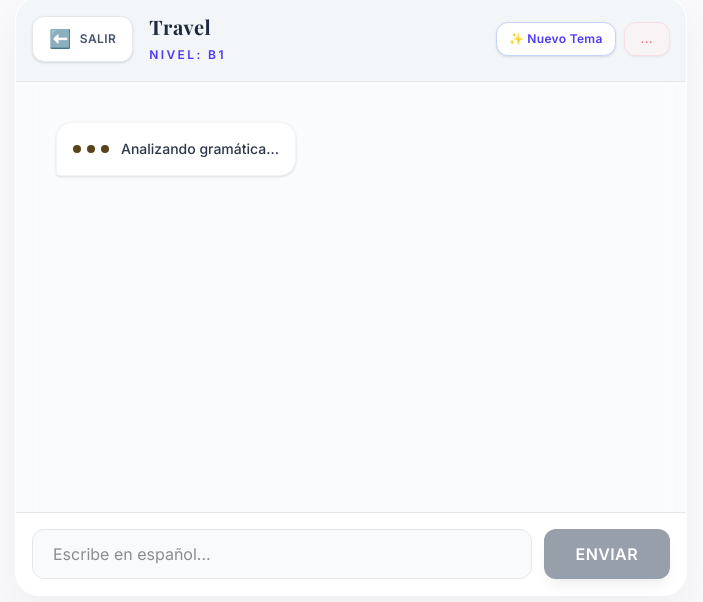
ConversationMode › sends a message and receives reply
Type "I love traveling." into the field with placeholder "Escribe en español..." at [282, 554], box [32,529,532,579]
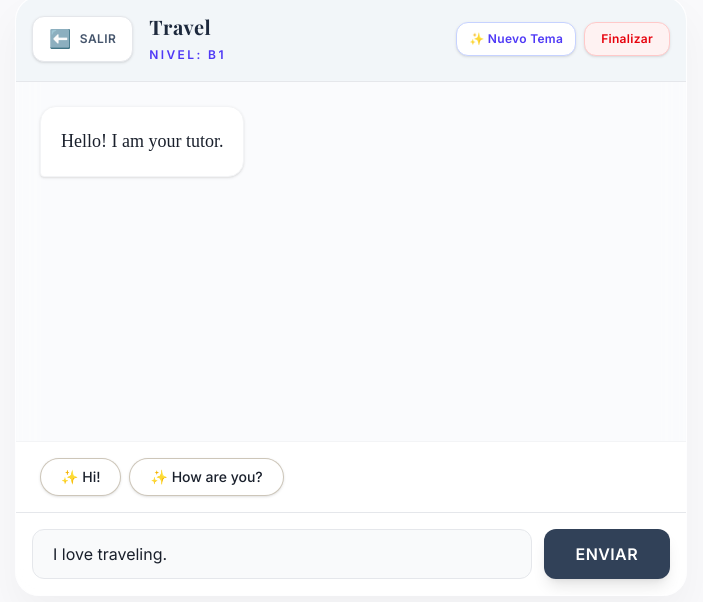
Click the button "ENVIAR" at [607, 554], box [544,529,670,579]
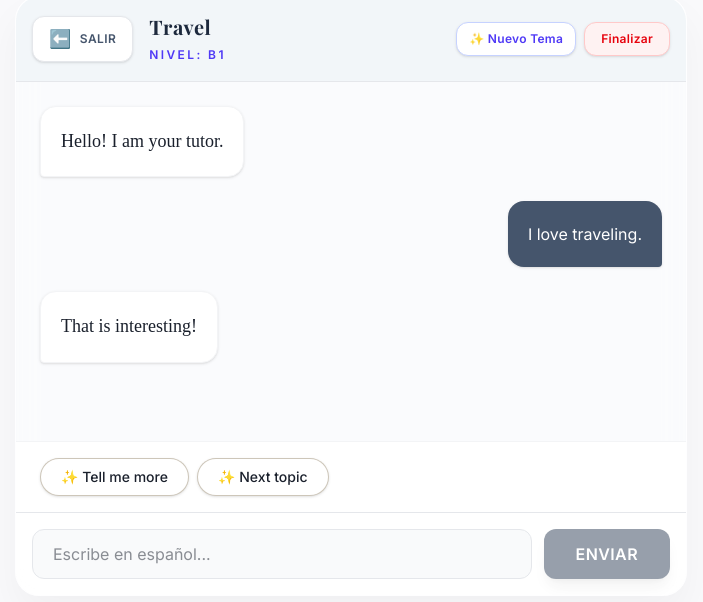
Expected: the text "That is interesting!" is shown, [61,312,197,342]
